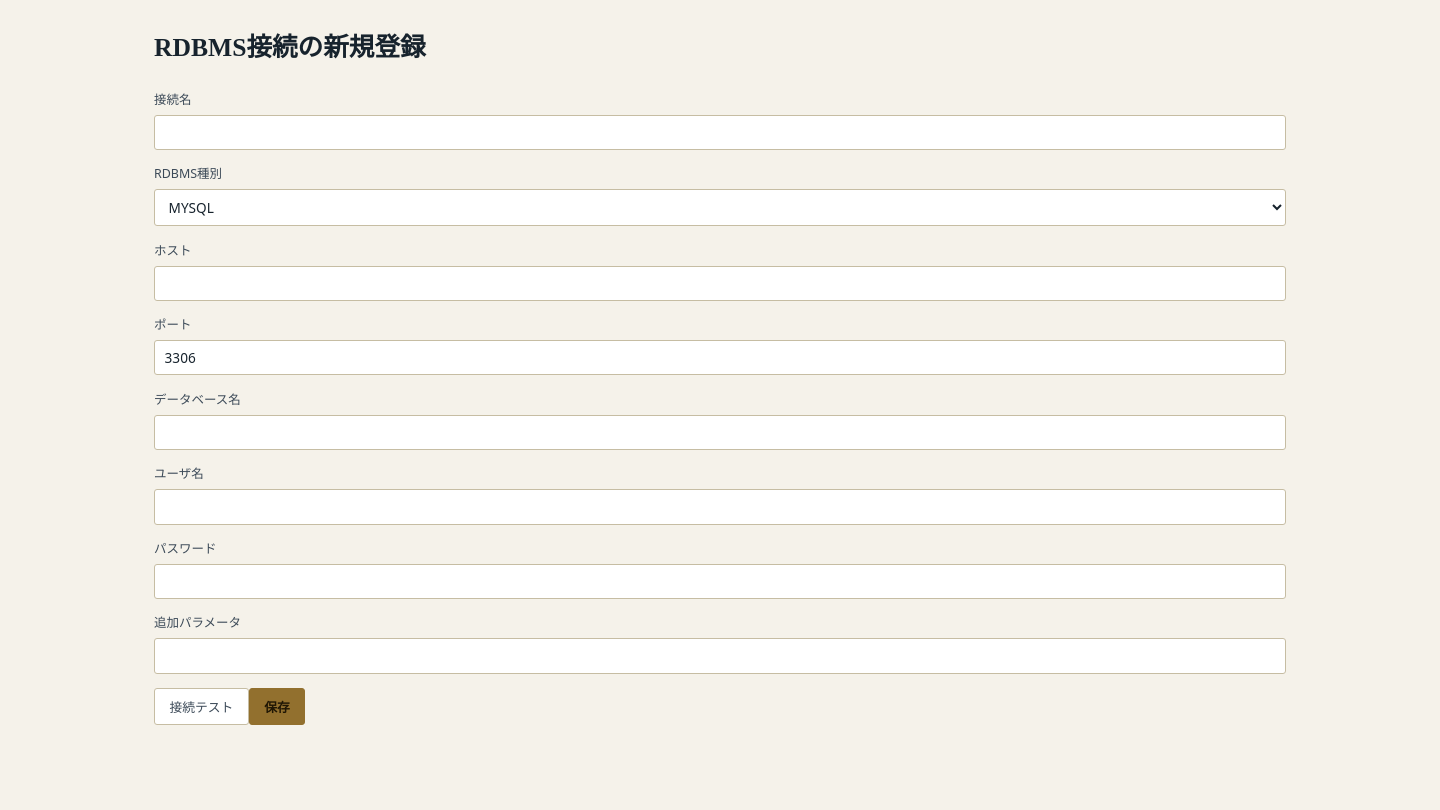
Test case: ConnectionFormPage › shows a success message when the connection test succeeds
Type "new-connection" into the field with test id "connection-form-page-name-input".
click(720, 132); type("new-connection")  # box 154,114 -> 1286,150
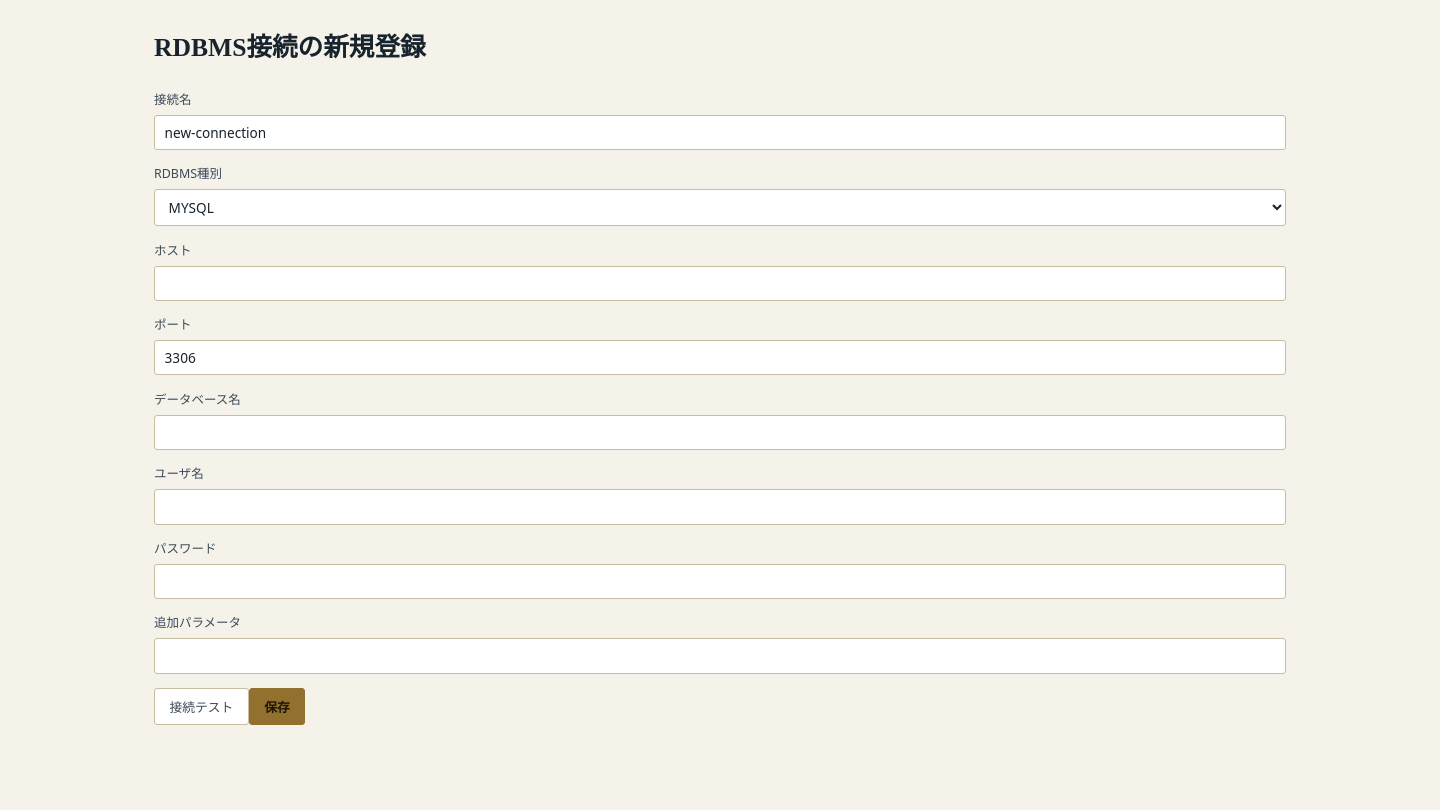
Type "new-host" into the field with test id "connection-form-page-host-input".
click(720, 283); type("new-host")  # box 154,266 -> 1286,301
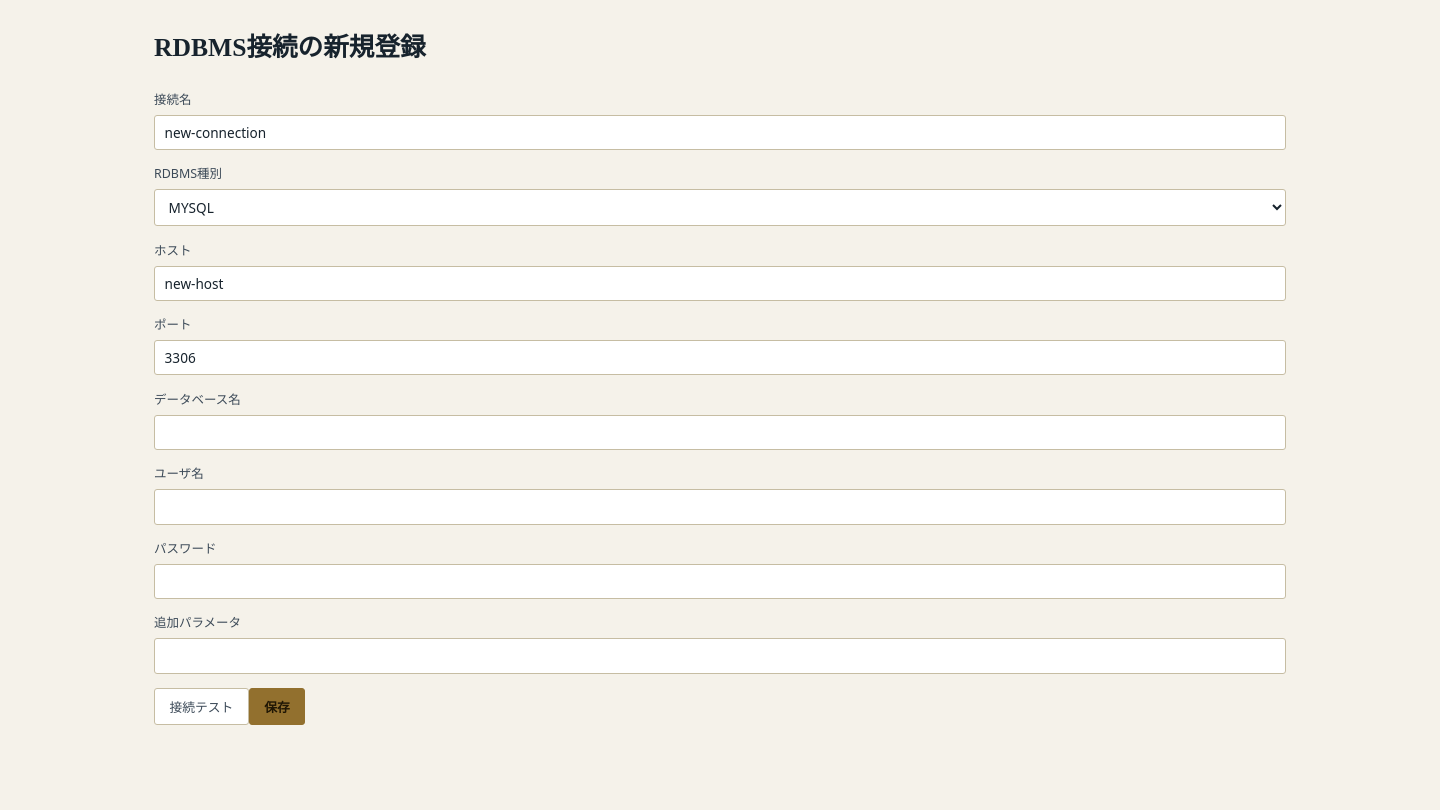
Type "new-db" into the field with test id "connection-form-page-database-name-input".
click(720, 432); type("new-db")  # box 154,415 -> 1286,450
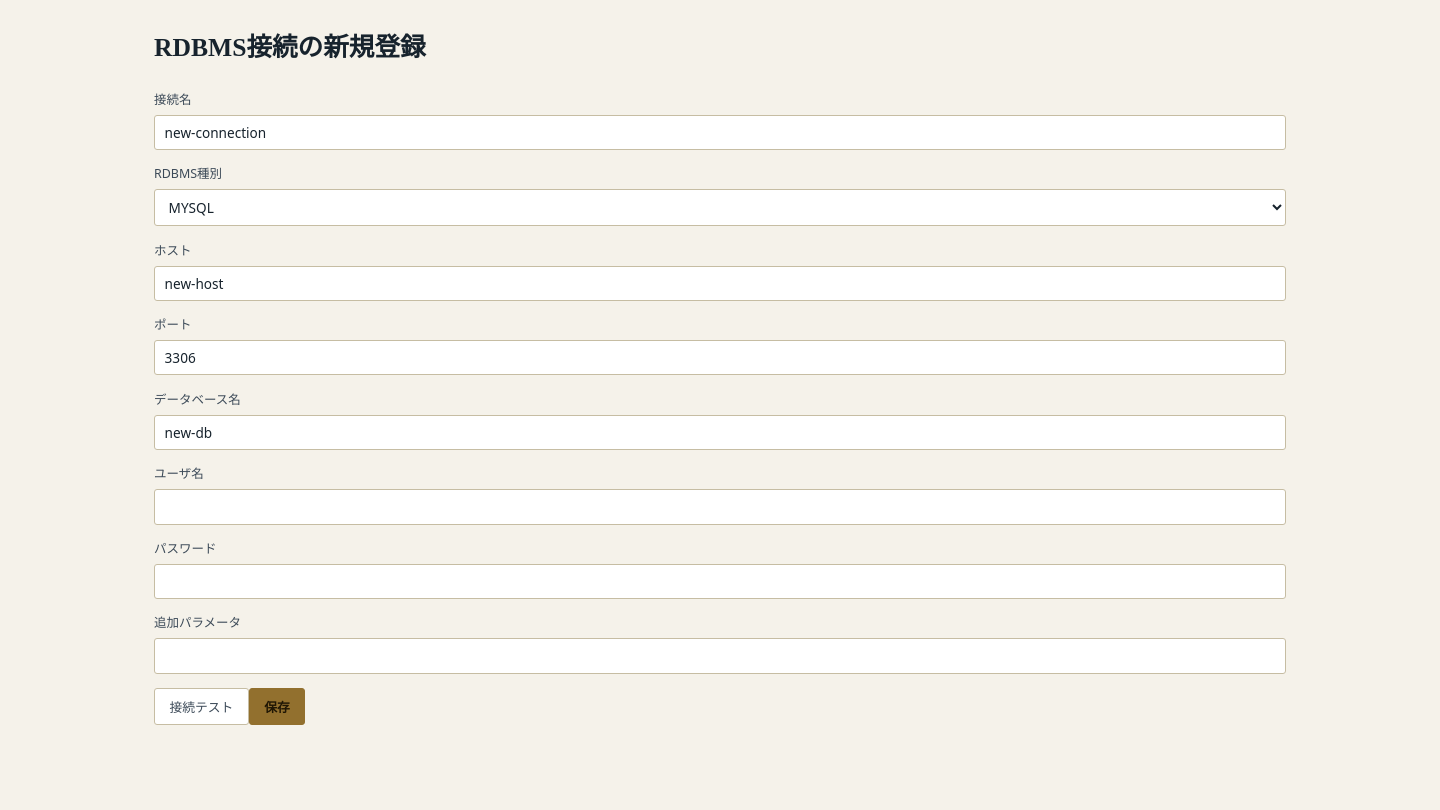
Type "new-user" into the field with test id "connection-form-page-username-input".
click(720, 507); type("new-user")  # box 154,489 -> 1286,525
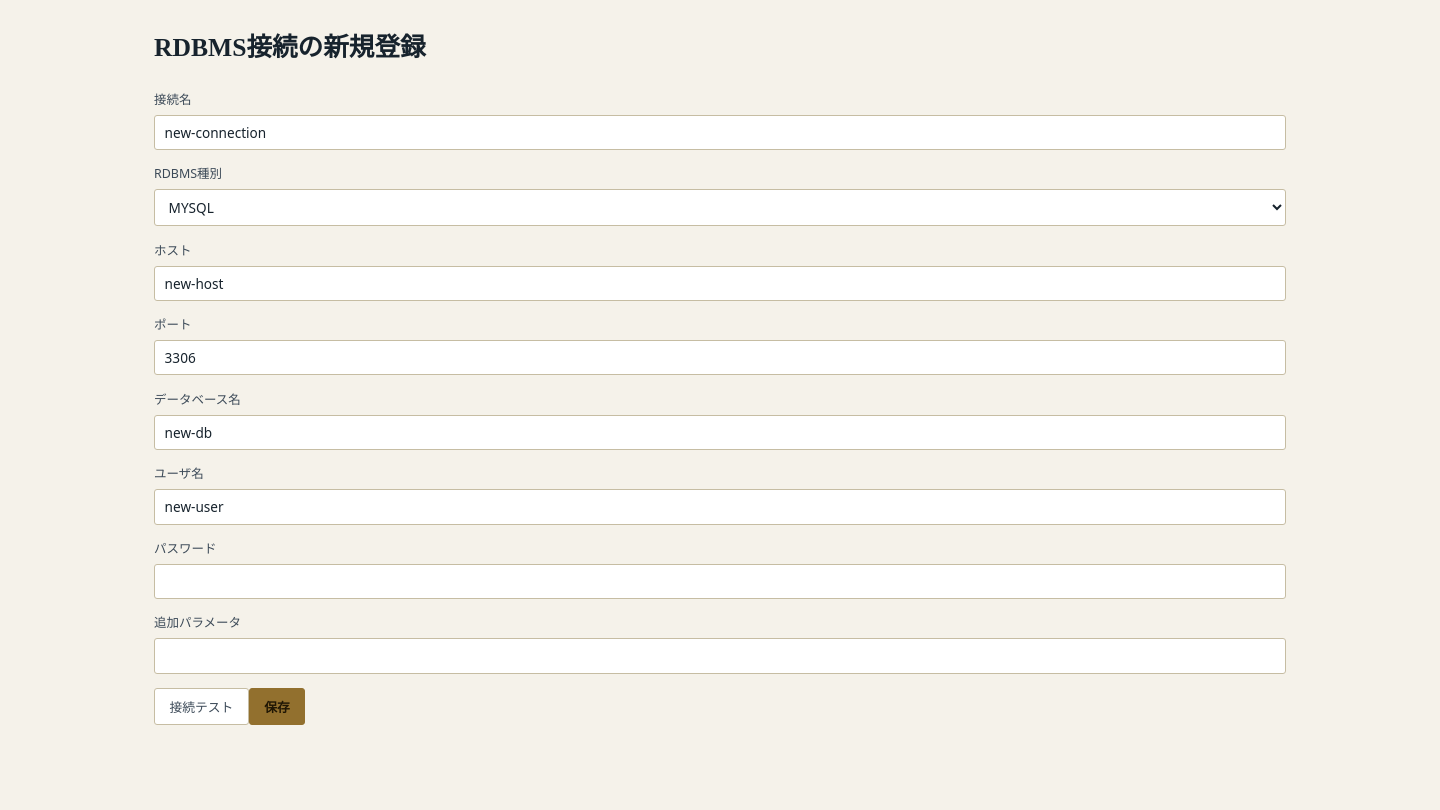
Type "new-password" into the password field with test id "connection-form-page-password-input".
click(720, 581); type("new-password")  # box 154,564 -> 1286,599
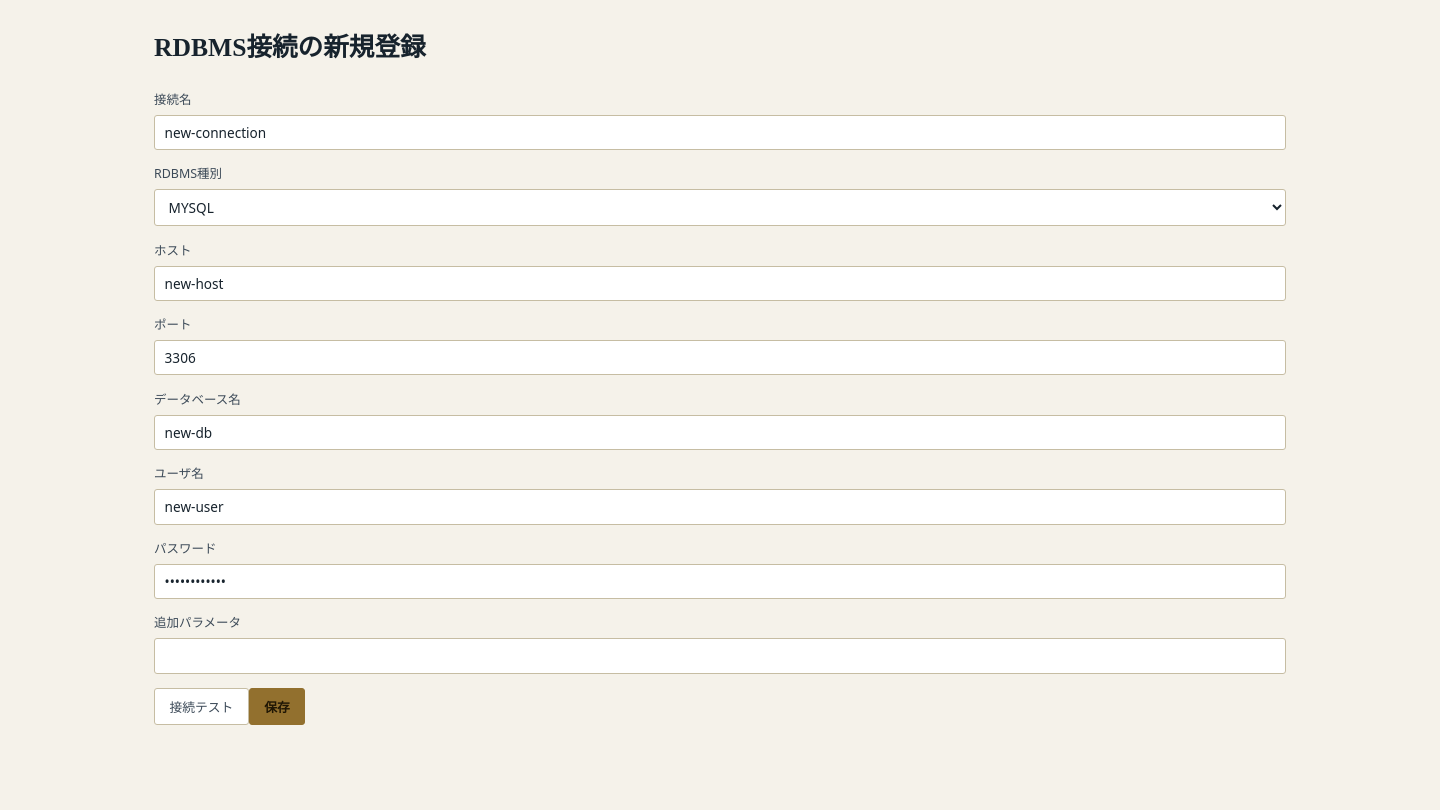
Click the button with test id "connection-form-page-test-button".
click(201, 706)  # box 154,688 -> 249,725
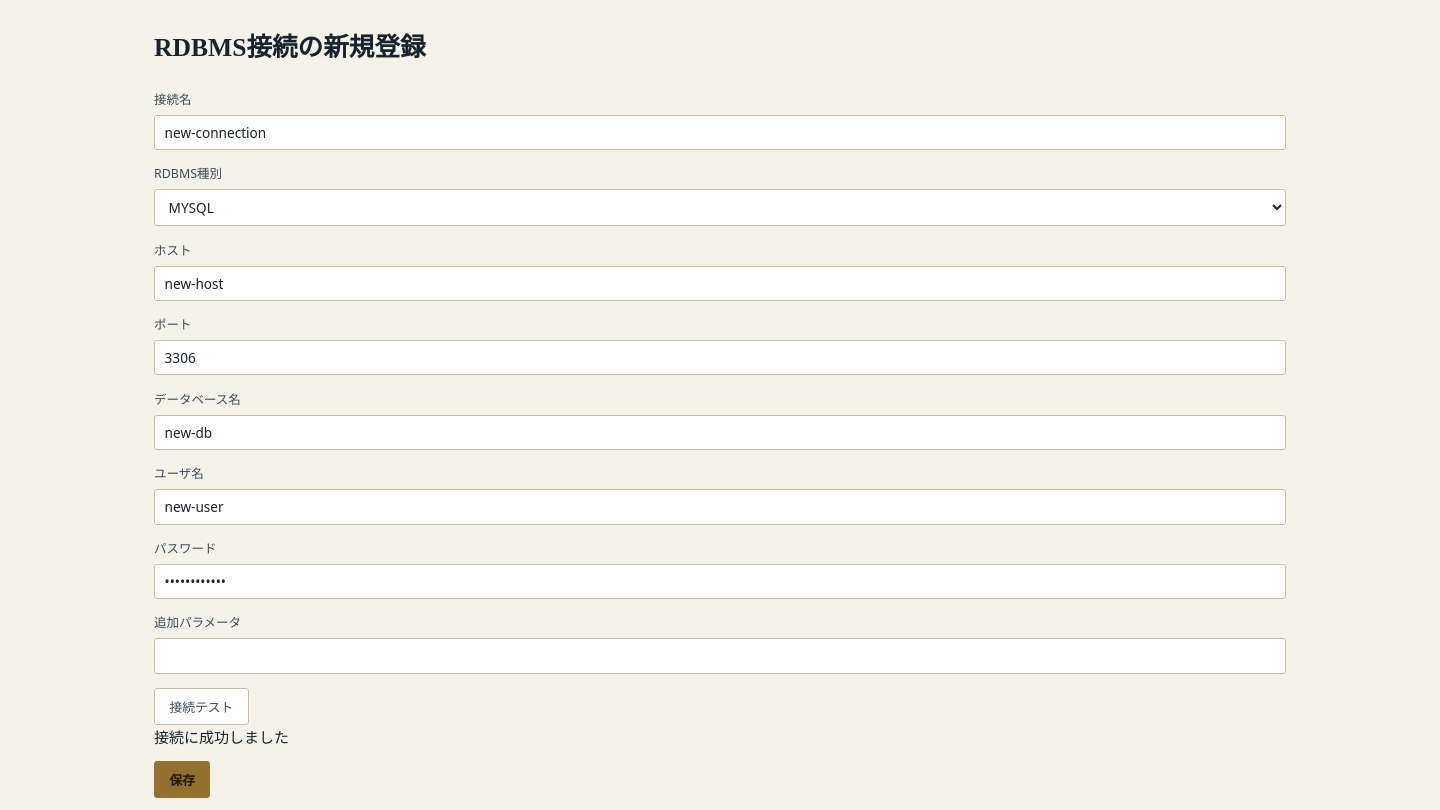
Now the text with test id "connection-form-page-test-result-message" reads "接続に成功しました", box 154,727 -> 289,747
